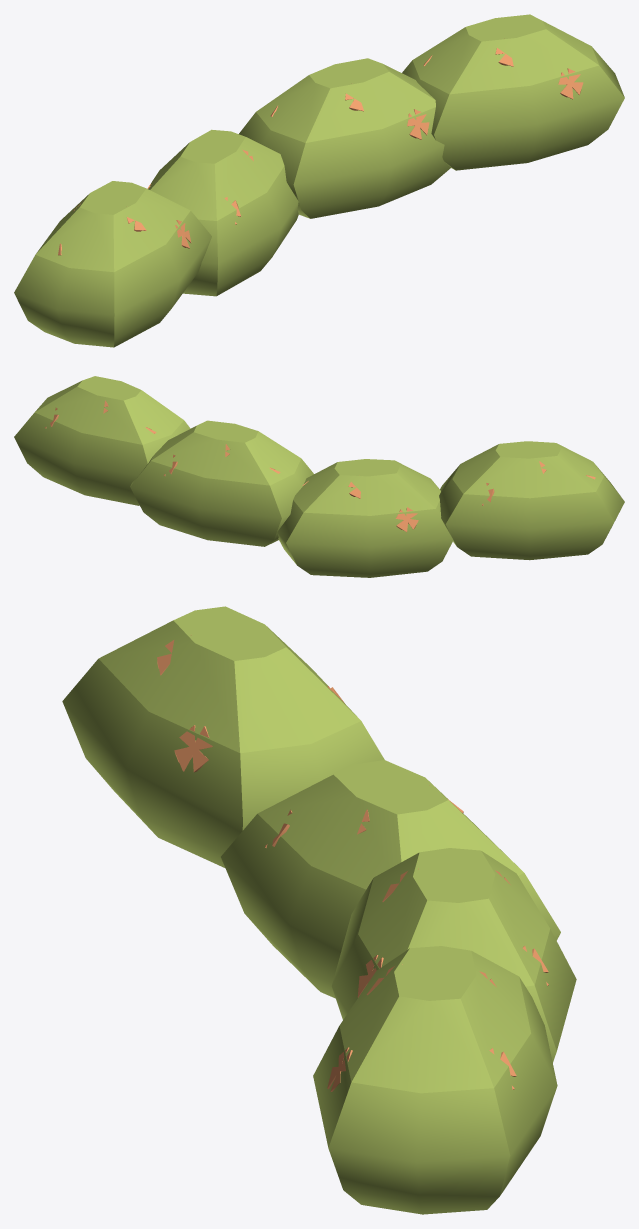
The model's file is bushes_grp_03.fbx.
The picture shows the model from 3 angles, top to bottom: view 1: azimuth 30°, elevation 25°; view 2: azimuth 150°, elevation 25°; view 3: azimuth 270°, elevation 25°; orthographic projection. The views are drawn at different scales.
Visible parts, largest first — view 1: bush_geo (×4); view 2: bush_geo (×4), flower_geo6; view 3: bush_geo (×4), flower_geo6.
Boxes of the visible parts, bbox=[...] form: bush_geo (×4): bbox=[14, 14, 624, 347]; bush_geo (×4): bbox=[14, 376, 624, 577]; flower_geo6: bbox=[395, 507, 418, 532]; bush_geo (×4): bbox=[62, 606, 576, 1214]; flower_geo6: bbox=[174, 725, 212, 772].
Bounding box in the file's own units: 0.0416 × 0.00892 × 0.0174.
